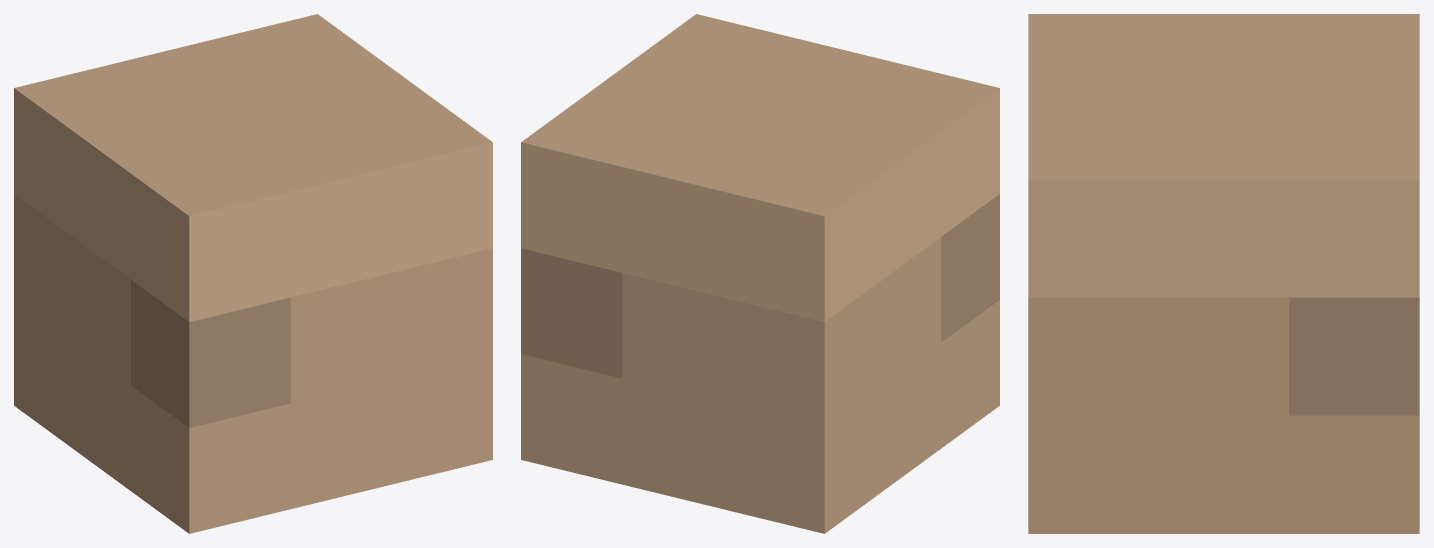
The model's file is life_crate.glb.
3 renders of one model, left to right at view 1: azimuth 30°, elevation 25°; view 2: azimuth 150°, elevation 25°; view 3: azimuth 270°, elevation 25°, orthographic. The views are drawn at different scales.
Parts seen in each view (by area): view 1: life_crate; view 2: life_crate; view 3: life_crate.
Part boxes in pixels (<box>): life_crate: <box>14,14,492,533</box>; life_crate: <box>521,14,999,533</box>; life_crate: <box>1028,14,1419,533</box>.
Size of the model in its own units: 0.1875 by 0.1875 by 0.1875.
